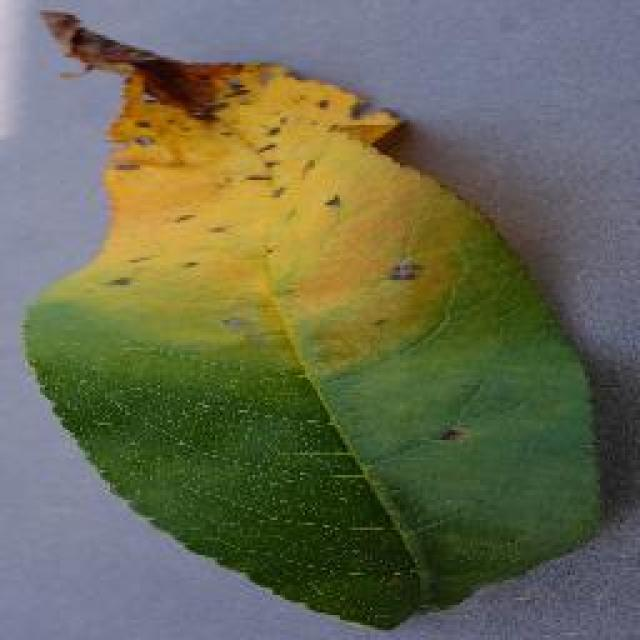Peach_Bacterial_Spot: (80, 37, 398, 373)
